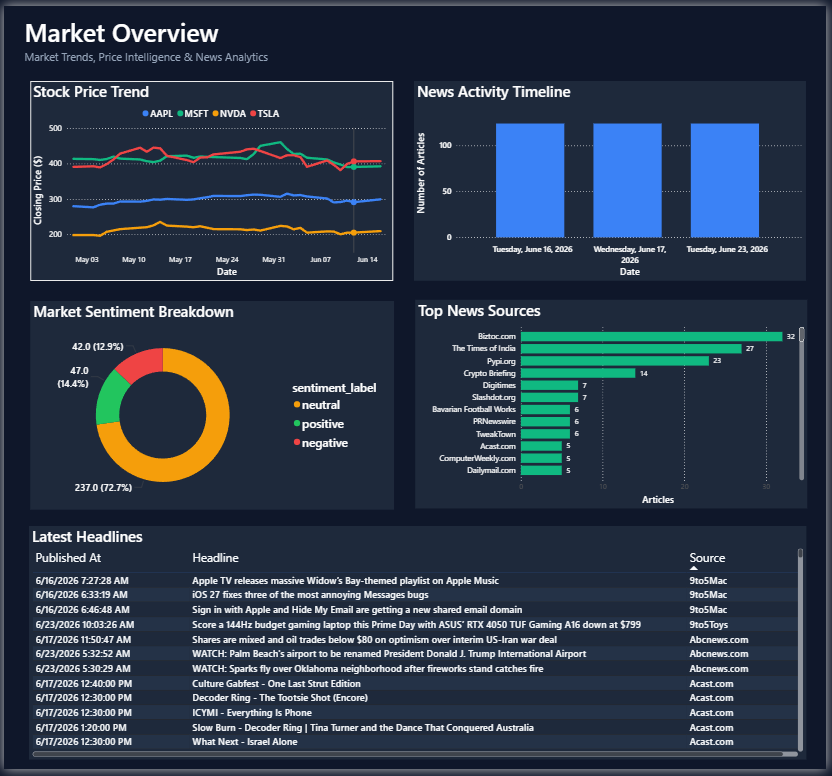

The dashboard page shown, as its layout file describes it:
{"tool":"powerbi","page":{"name":"Market Overview","canvas":[1400,1300],"ordinal":2},"visuals":[{"type":"textbox","box":[30.3,10.1,782,70.7],"z":0},{"type":"textbox","box":[29.4,67.2,585.8,35.7],"z":1000},{"type":"lineChart","title":"Stock Price Trend","fields":{"Y":["Sum(prices.close_price)"],"Series":["prices.symbol"],"Category":["prices.date"]},"box":[44.1,128.1,619.4,340.1],"z":2000},{"type":"clusteredColumnChart","title":"News Activity Timeline","fields":{"Y":["CountNonNull(prices.id)"],"Category":["news.News Date"]},"box":[698.7,127,667,339.8],"z":3000},{"type":"donutChart","title":"Market Sentiment Breakdown","fields":{"Category":["sentiment.sentiment_label"],"Y":["CountNonNull(sentiment.id)"]},"box":[44.1,501.8,619.4,355],"z":4000},{"type":"clusteredBarChart","title":"Top News Sources","fields":{"Category":["news.source"],"Y":["CountNonNull(news.id)"]},"box":[699,501,667,355],"z":5000},{"type":"tableEx","title":"Latest Headlines","fields":{"Values":["news.published_at","news.title","news.source"]},"box":[43.2,885.7,1322.9,397.8],"z":6000}]}

Visuals, with their boxes in screenshot pixels (x1, y1, x2, y2), scaled from the page's 1400x1300 canvas onto the 832x776 screenshot:
textbox: [x1=18, y1=6, x2=483, y2=48]
textbox: [x1=17, y1=40, x2=366, y2=61]
"Stock Price Trend" lineChart: [x1=26, y1=76, x2=394, y2=279]
"News Activity Timeline" clusteredColumnChart: [x1=415, y1=76, x2=812, y2=279]
"Market Sentiment Breakdown" donutChart: [x1=26, y1=300, x2=394, y2=511]
"Top News Sources" clusteredBarChart: [x1=415, y1=299, x2=812, y2=511]
"Latest Headlines" tableEx: [x1=26, y1=529, x2=812, y2=766]
